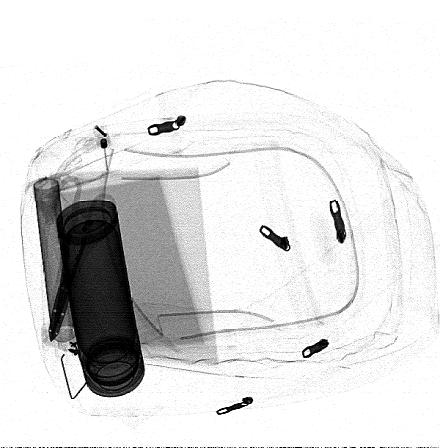Scissors: (46, 172, 119, 343)
